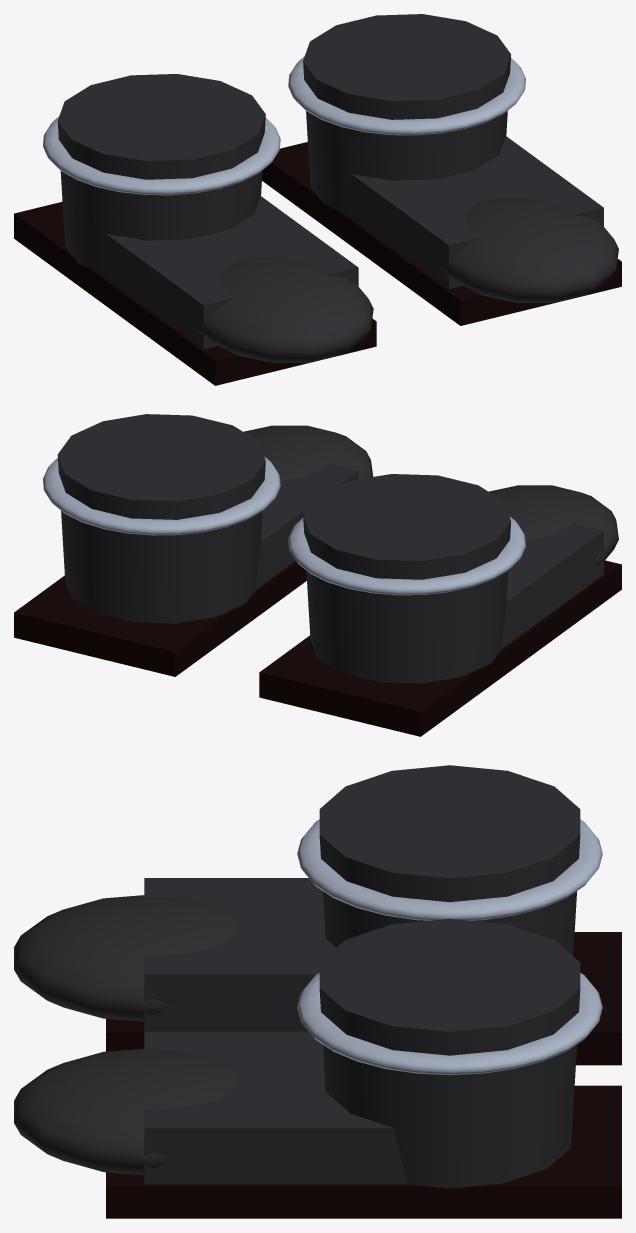
Rendered from shoes_cool_0.glb.
3 renders of one model, top to bottom at view 1: azimuth 30°, elevation 25°; view 2: azimuth 150°, elevation 25°; view 3: azimuth 270°, elevation 25°, orthographic. The views are drawn at different scales.
Size of the model in its own units: 0.392 by 0.1248 by 0.3563.
